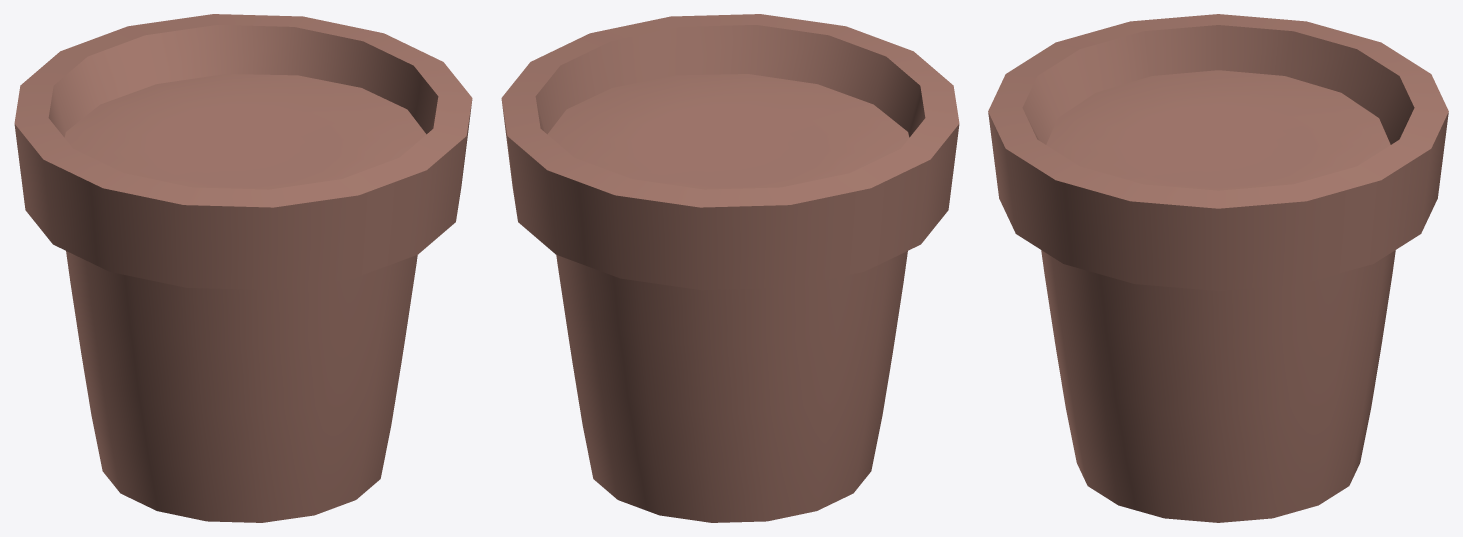
File: flowerpot.fbx
3 renders of one model, left to right at view 1: azimuth 30°, elevation 25°; view 2: azimuth 150°, elevation 25°; view 3: azimuth 270°, elevation 25°, orthographic.
Visible parts, largest first — view 1: pCylinder1; view 2: pCylinder1; view 3: pCylinder1.
Boxes of the visible parts, bbox=[...] form: pCylinder1: bbox=[14, 14, 472, 522]; pCylinder1: bbox=[501, 14, 959, 522]; pCylinder1: bbox=[988, 14, 1448, 522].
Size of the model in its own units: 86.12 by 73.28 by 86.12.
